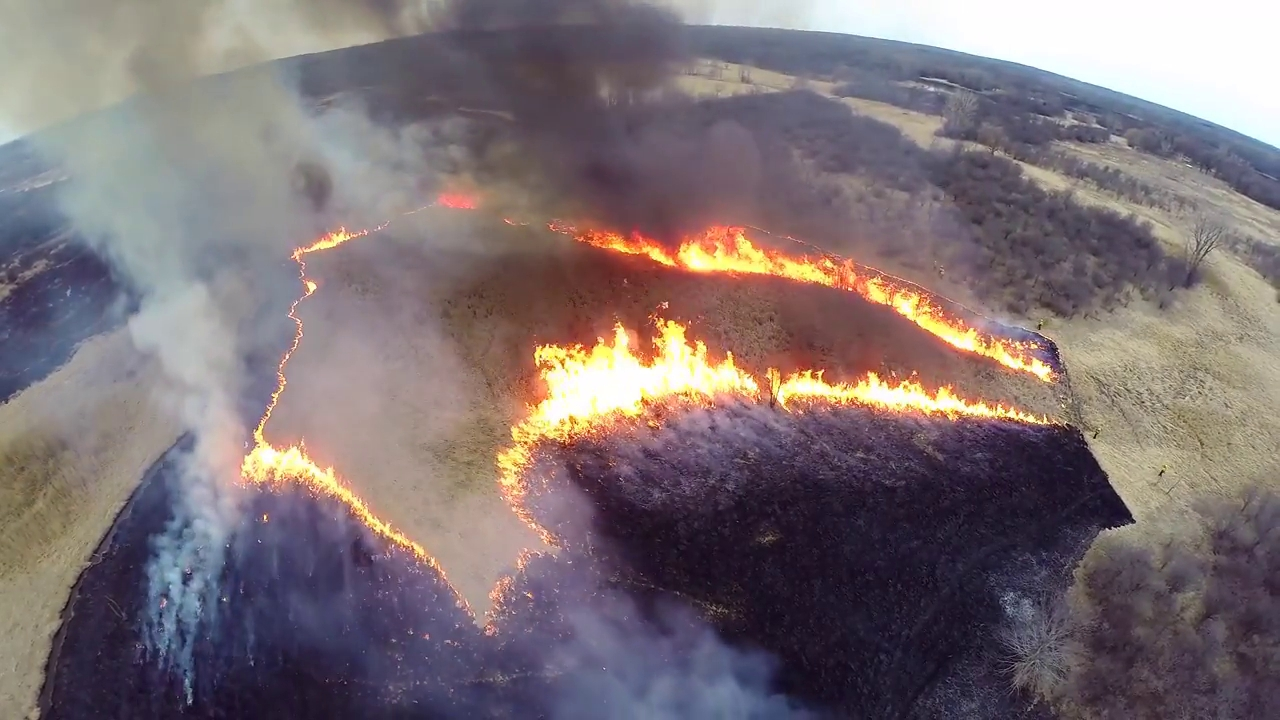forest_fire: (496, 319, 1049, 536), (552, 222, 1050, 377), (240, 225, 441, 576), (434, 195, 477, 206), (457, 596, 464, 607)
